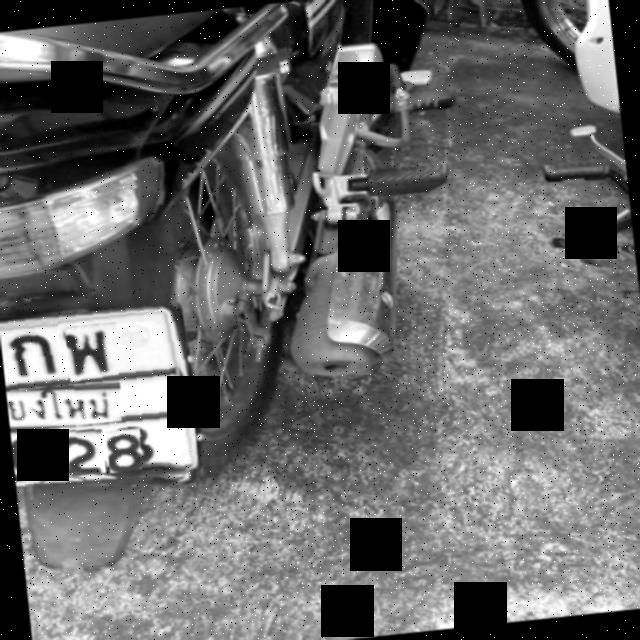letters: (0, 322, 62, 381), (64, 322, 121, 382), (10, 427, 53, 476), (66, 426, 106, 476), (105, 428, 144, 472)
license-plate: (0, 303, 199, 484)
province: (5, 379, 124, 432)
